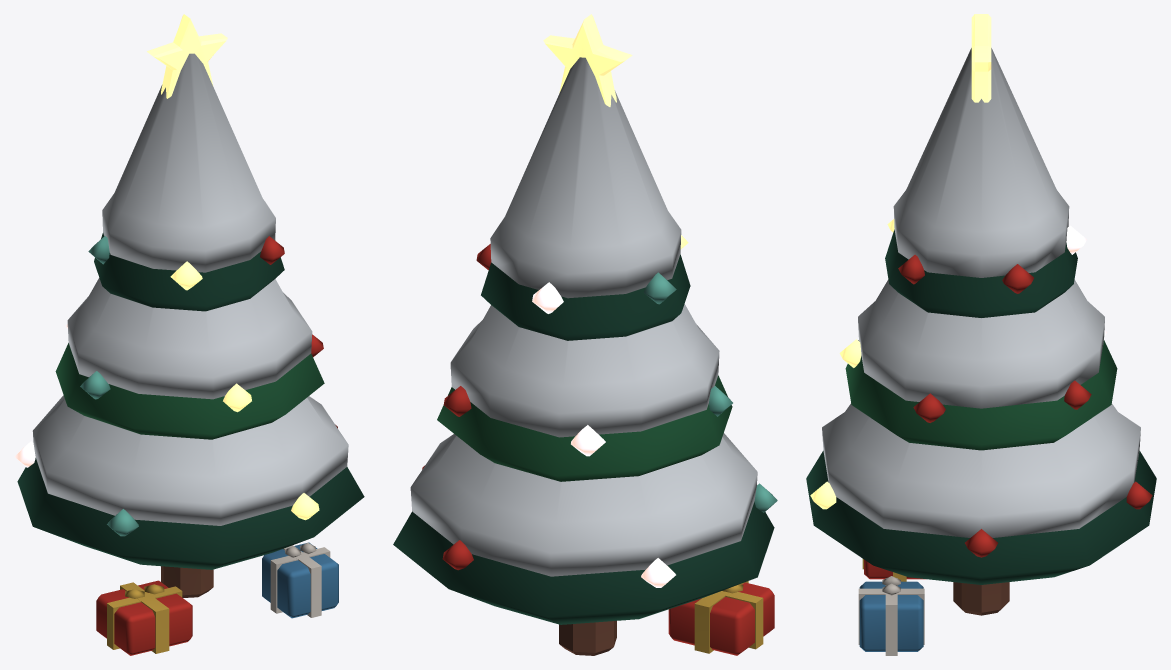
File: depot_tree.glb
3 views of the same model, side by side, from view 1: azimuth 30°, elevation 25°; view 2: azimuth 150°, elevation 25°; view 3: azimuth 270°, elevation 25° (orthographic). The views are drawn at different scales.
Parts seen in each view (by area): view 1: depot_tree; view 2: depot_tree; view 3: depot_tree.
Part boxes in pixels (x1,y1,x2,y2): depot_tree: (14, 14, 364, 655); depot_tree: (393, 14, 777, 655); depot_tree: (806, 14, 1156, 655).
Size of the model in its own units: 2.23 by 4.01 by 2.15.
